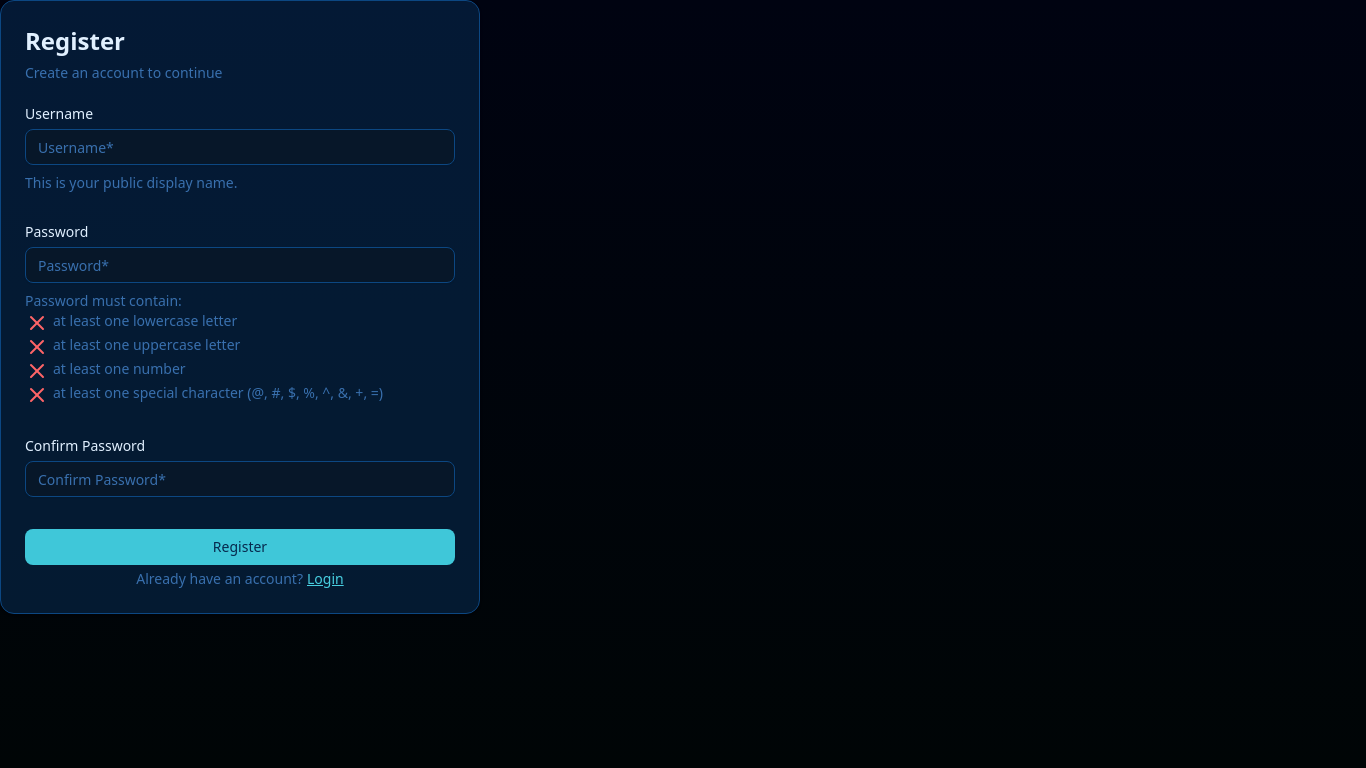
Test: Register component › Simulate a change in the password-input
Type "testPassword1" into the password field with test id "password-input" at (240,265), box [25,247,455,283]
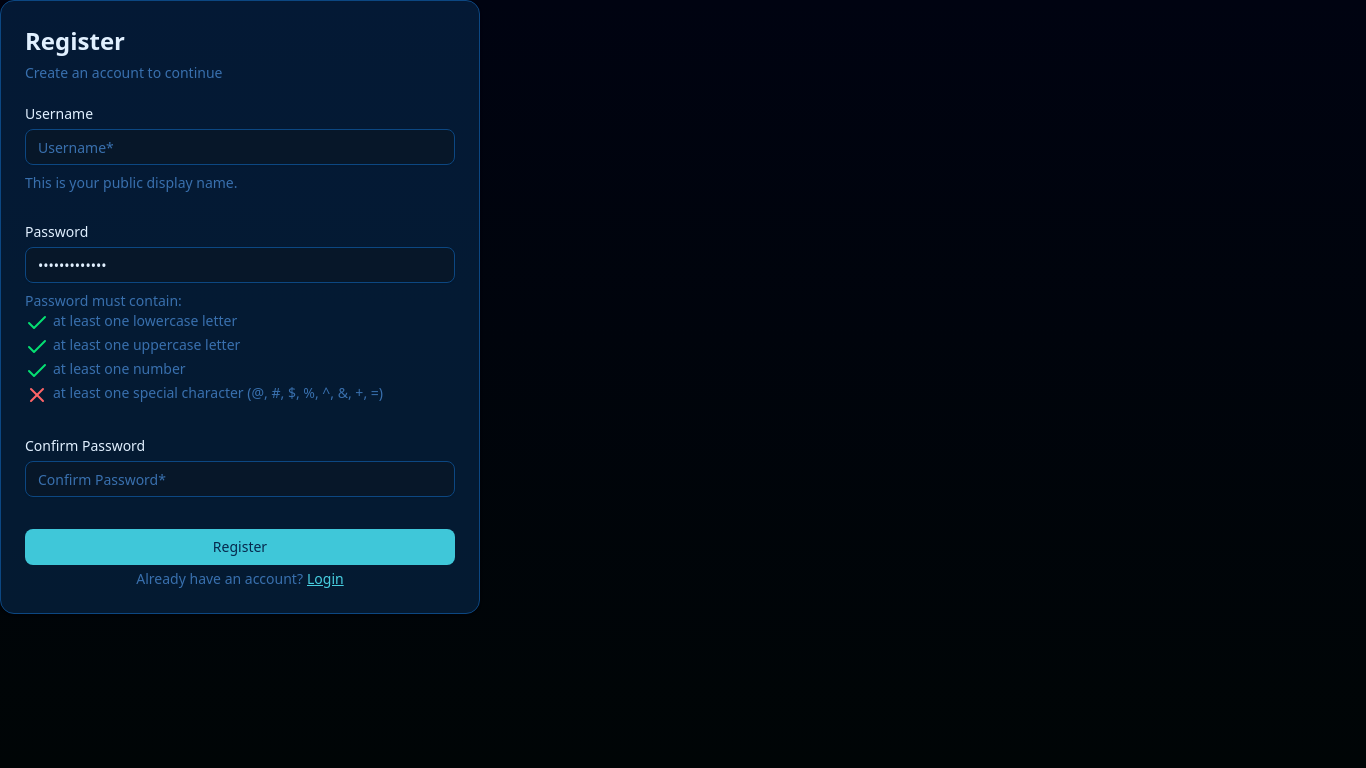
Now the icon with test id "requirement-check" next to "at least one lowercase letter" is shown, box [25,311,49,335]
